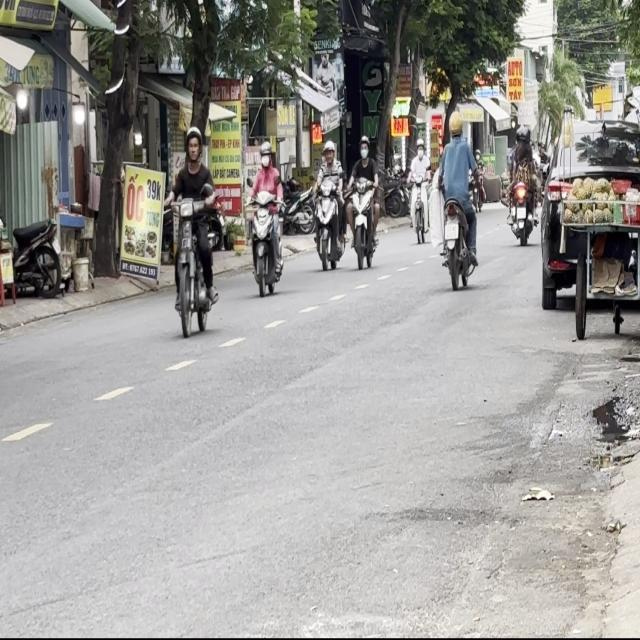helmet: (185, 125, 204, 165), (259, 140, 273, 168)
licenseplate: (167, 123, 221, 334), (246, 139, 286, 296)
